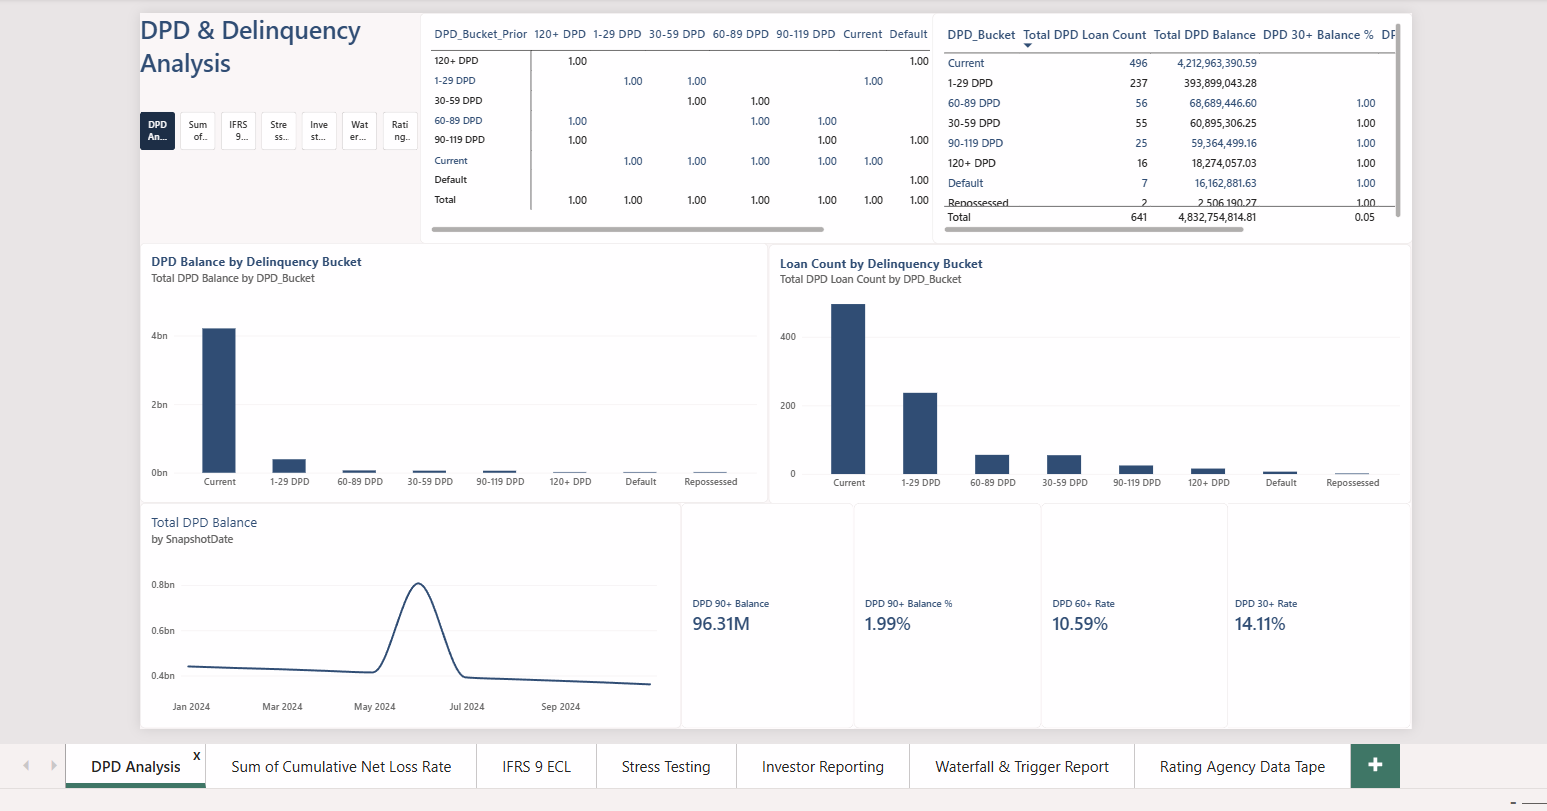

This screenshot's page, from the dashboard's own definition file:
{"tool":"powerbi","page":{"name":"DPD Analysis","canvas":[1920,1080],"ordinal":0},"visuals":[{"type":"pivotTable","fields":{"Columns":["FactMonthlyPerformance.DPD_Bucket"],"Rows":["FactMonthlyPerformance.DPD_Bucket_Prior"],"Values":["Senior Tranche Allocation.Roll Rate %"]},"box":[423.3,0,786.7,348.2],"z":0},{"type":"clusteredColumnChart","title":"DPD Balance by Delinquency Bucket","fields":{"Category":["FactMonthlyPerformance.DPD_Bucket"],"Y":["Senior Tranche Allocation.Total DPD Balance"]},"box":[0,348,948,392],"z":1000},{"type":"clusteredColumnChart","title":"Loan Count by Delinquency Bucket","fields":{"Category":["FactMonthlyPerformance.DPD_Bucket"],"Y":["Senior Tranche Allocation.Total DPD Loan Count"]},"box":[949.2,348.2,969.8,392.1],"z":2000},{"type":"tableEx","fields":{"Values":["FactMonthlyPerformance.DPD_Bucket","Senior Tranche Allocation.Total DPD Loan Count","Senior Tranche Allocation.Total DPD Balance","Senior Tranche Allocation.DPD 30+ Balance %","Senior Tranche Allocation.DPD 60+ Balance %","Senior Tranche Allocation.DPD 90+ Loan Count"]},"box":[1196.7,0,724.8,348.2],"z":3000},{"type":"lineChart","fields":{"Category":["FactMonthlyPerformance.SnapshotDate"],"Y":["Senior Tranche Allocation.Total DPD Balance"]},"box":[0,740,817,340],"z":4000},{"type":"cardVisual","title":"90+ DPD Balance","fields":{"Data":["Senior Tranche Allocation.DPD 90+ Balance"]},"box":[817.3,739.6,260.9,340.7],"z":5000},{"type":"cardVisual","fields":{"Data":["DimBorrower.DPD 30+ Rate"]},"box":[1636.7,739.6,282.5,340.7],"z":6000},{"type":"cardVisual","fields":{"Data":["DimBorrower.DPD 60+ Rate"]},"box":[1360.7,739.6,282.5,340.7],"z":7000},{"type":"cardVisual","fields":{"Data":["Senior Tranche Allocation.DPD 90+ Balance %"]},"box":[1078.2,739.6,283.3,340],"z":8000},{"type":"textbox","box":[0,0,399.8,172.8],"z":9000},{"type":"pageNavigator","box":[0,148.3,423.3,58.3],"z":9001}]}

Visuals, with their boxes on the page's 1920x1080 design canvas (x1, y1, x2, y2). These are canvas units, not pixel positions in the 1547x811 screenshot, which may show the page scaled, cropped or inside an application window:
pivotTable - FactMonthlyPerformance.DPD_Bucket x FactMonthlyPerformance.DPD_Bucket_Prior: locate(423, 0, 1210, 348)
"DPD Balance by Delinquency Bucket" clusteredColumnChart: locate(0, 348, 948, 740)
"Loan Count by Delinquency Bucket" clusteredColumnChart: locate(949, 348, 1919, 740)
tableEx - FactMonthlyPerformance.DPD_Bucket x Senior Tranche Allocation.Total DPD Loan Count: locate(1197, 0, 1922, 348)
lineChart - FactMonthlyPerformance.SnapshotDate x Senior Tranche Allocation.Total DPD Balance: locate(0, 740, 817, 1080)
"90+ DPD Balance" cardVisual: locate(817, 740, 1078, 1080)
cardVisual - DimBorrower.DPD 30+ Rate: locate(1637, 740, 1919, 1080)
cardVisual - DimBorrower.DPD 60+ Rate: locate(1361, 740, 1643, 1080)
cardVisual - Senior Tranche Allocation.DPD 90+ Balance %: locate(1078, 740, 1362, 1080)
textbox: locate(0, 0, 400, 173)
pageNavigator: locate(0, 148, 423, 207)
